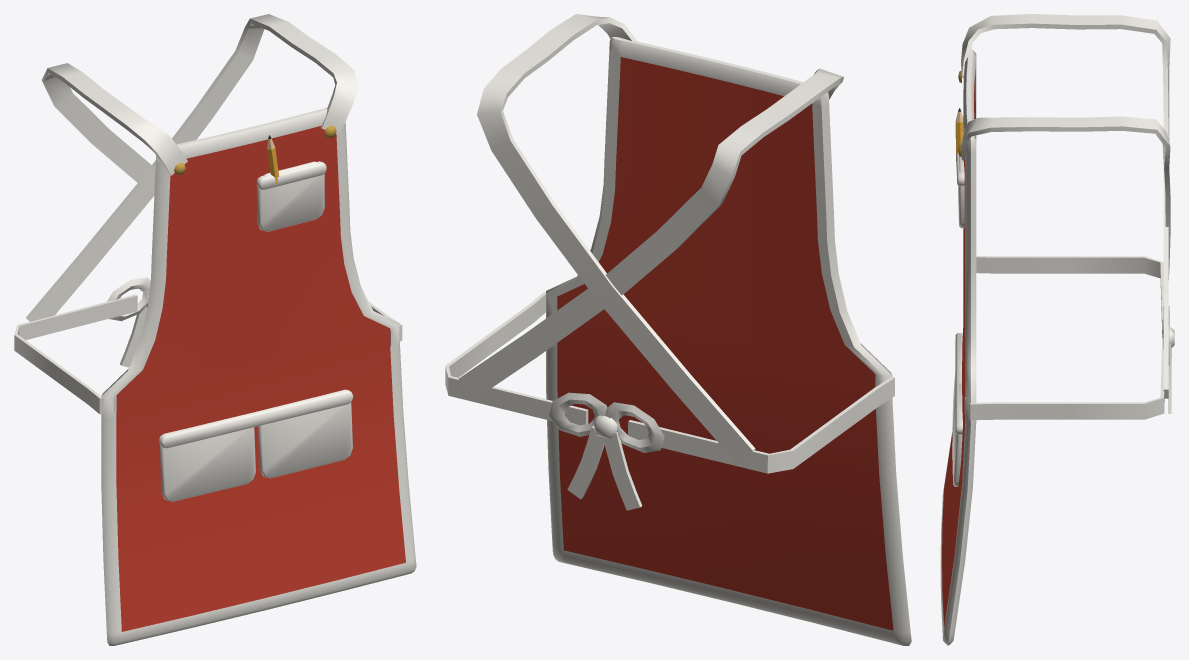
Rendered from Cosmetic_Apron.fbx.
3 renders of one model, left to right at view 1: azimuth 30°, elevation 25°; view 2: azimuth 150°, elevation 25°; view 3: azimuth 270°, elevation 25°, orthographic. The views are drawn at different scales.
Parts seen in each view (by area): view 1: Apron, Trim; view 2: Apron, Trim; view 3: Trim, Apron.
Part boxes in pixels (x1,y1,x2,y2): Apron: (116, 125, 405, 631); Trim: (14, 14, 416, 645); Apron: (557, 57, 893, 630); Trim: (445, 14, 911, 645); Trim: (940, 14, 1174, 645); Apron: (942, 71, 975, 627).
Size of the model in its own units: 205 by 315 by 134.
